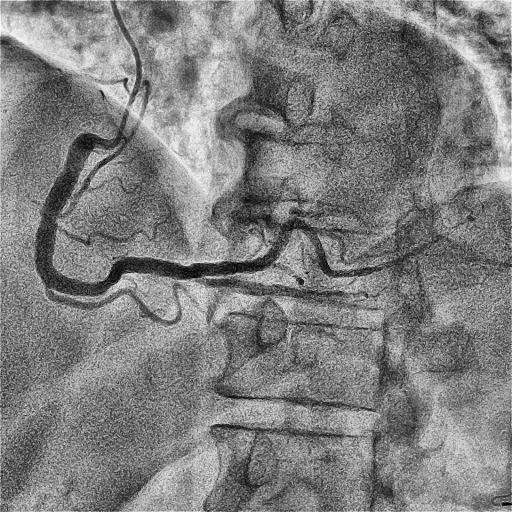pborca: (192, 217, 432, 278)
pda: (196, 277, 369, 296)
rca: (34, 133, 194, 297)
